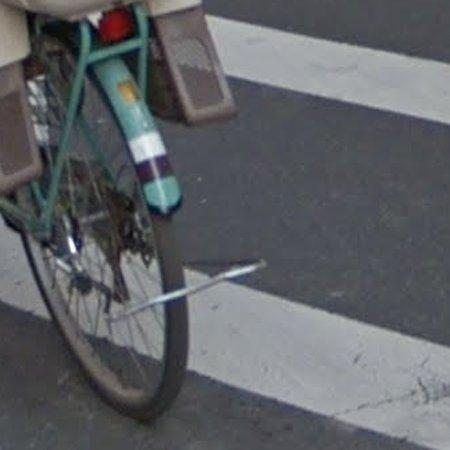bicycles: (0, 4, 266, 422), (0, 62, 42, 193)
